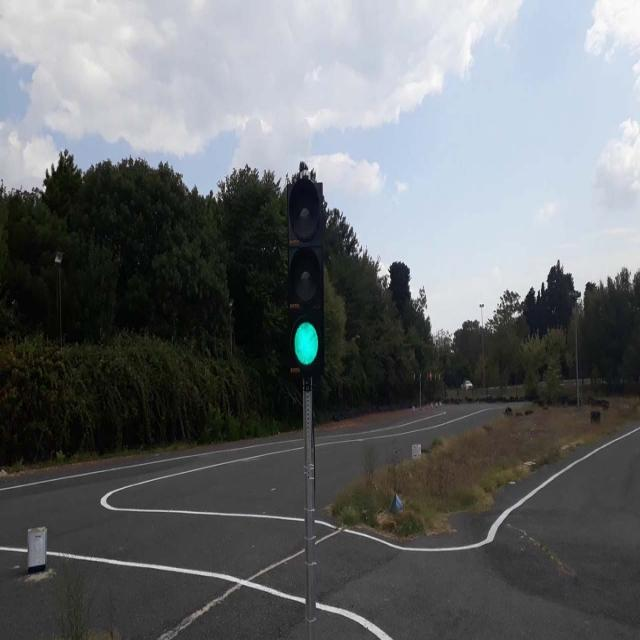yesil: (286, 180, 322, 376)
